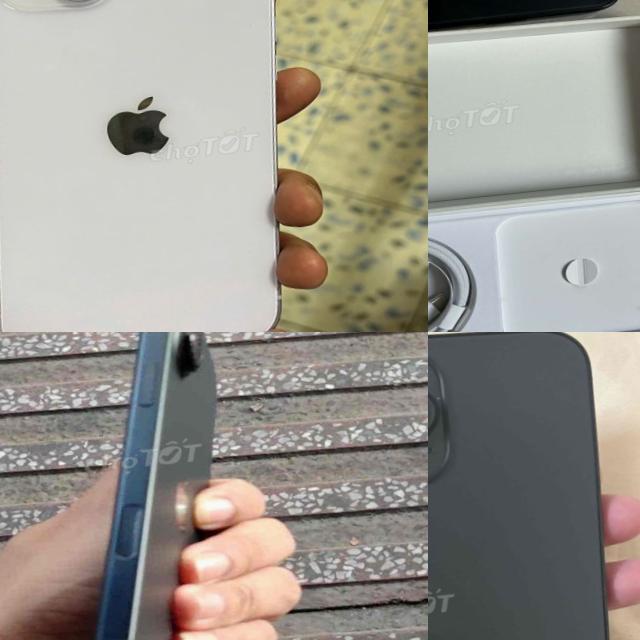gen_14: (0, 0, 322, 332), (428, 332, 640, 640)
gen_16: (35, 332, 276, 640)
